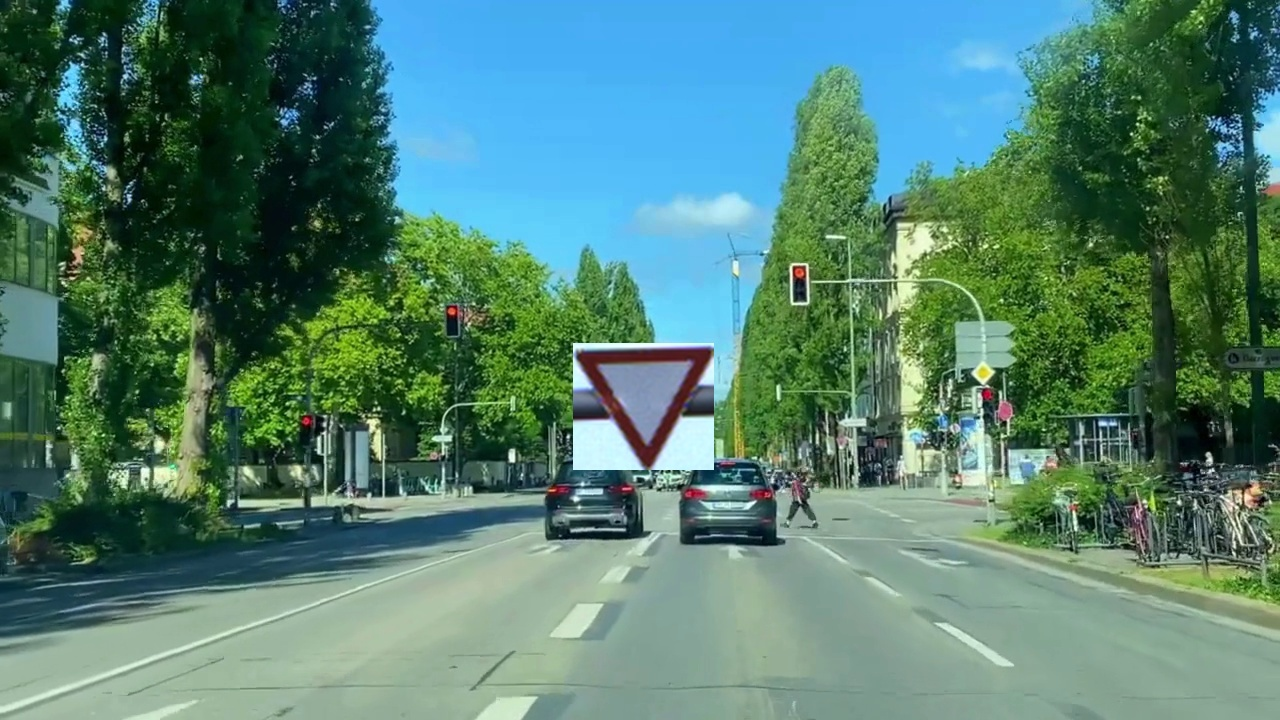Yield: (573, 343, 714, 470)
